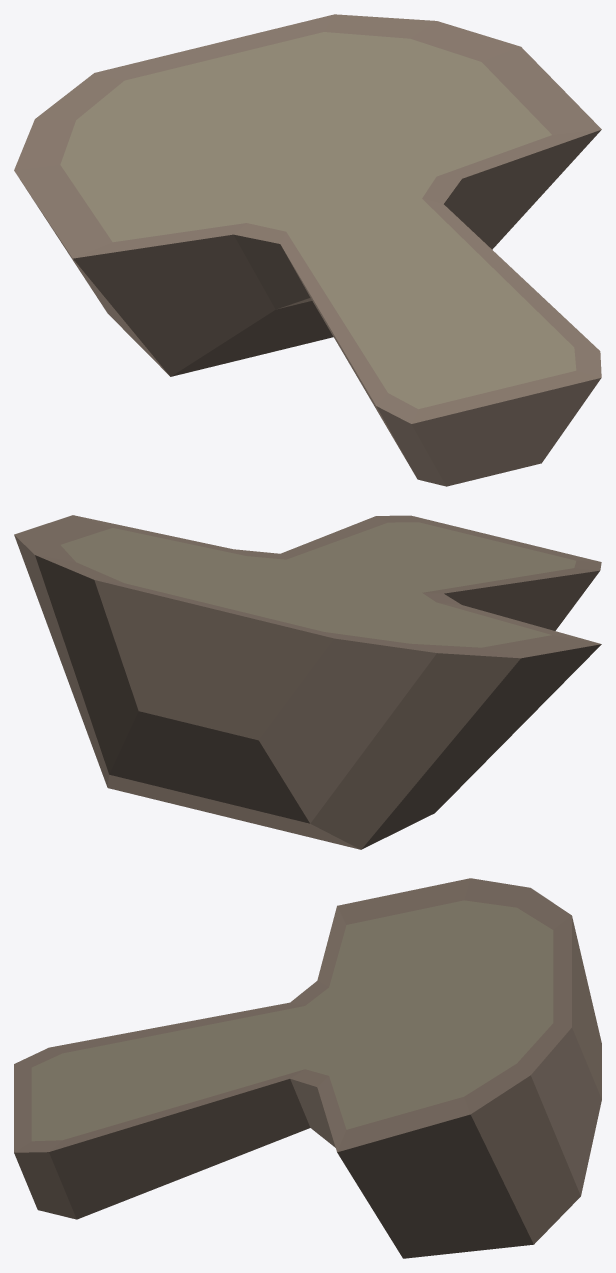
The model's file is mushroom-sliced-d1a8784a92.glb.
The picture shows the model from 3 angles, top to bottom: view 1: azimuth 30°, elevation 25°; view 2: azimuth 150°, elevation 25°; view 3: azimuth 270°, elevation 25°; orthographic projection. The views are drawn at different scales.
Parts seen in each view (by area): view 1: Mushroom_Sliced.obj; view 2: Mushroom_Sliced.obj; view 3: Mushroom_Sliced.obj.
Boxes of the visible parts, x1=… form: Mushroom_Sliced.obj: x1=14, y1=14, x2=601, y2=486; Mushroom_Sliced.obj: x1=14, y1=515, x2=601, y2=849; Mushroom_Sliced.obj: x1=14, y1=878, x2=601, y2=1258.
Size of the model in its own units: 0.4135 by 0.1765 by 0.4166.
